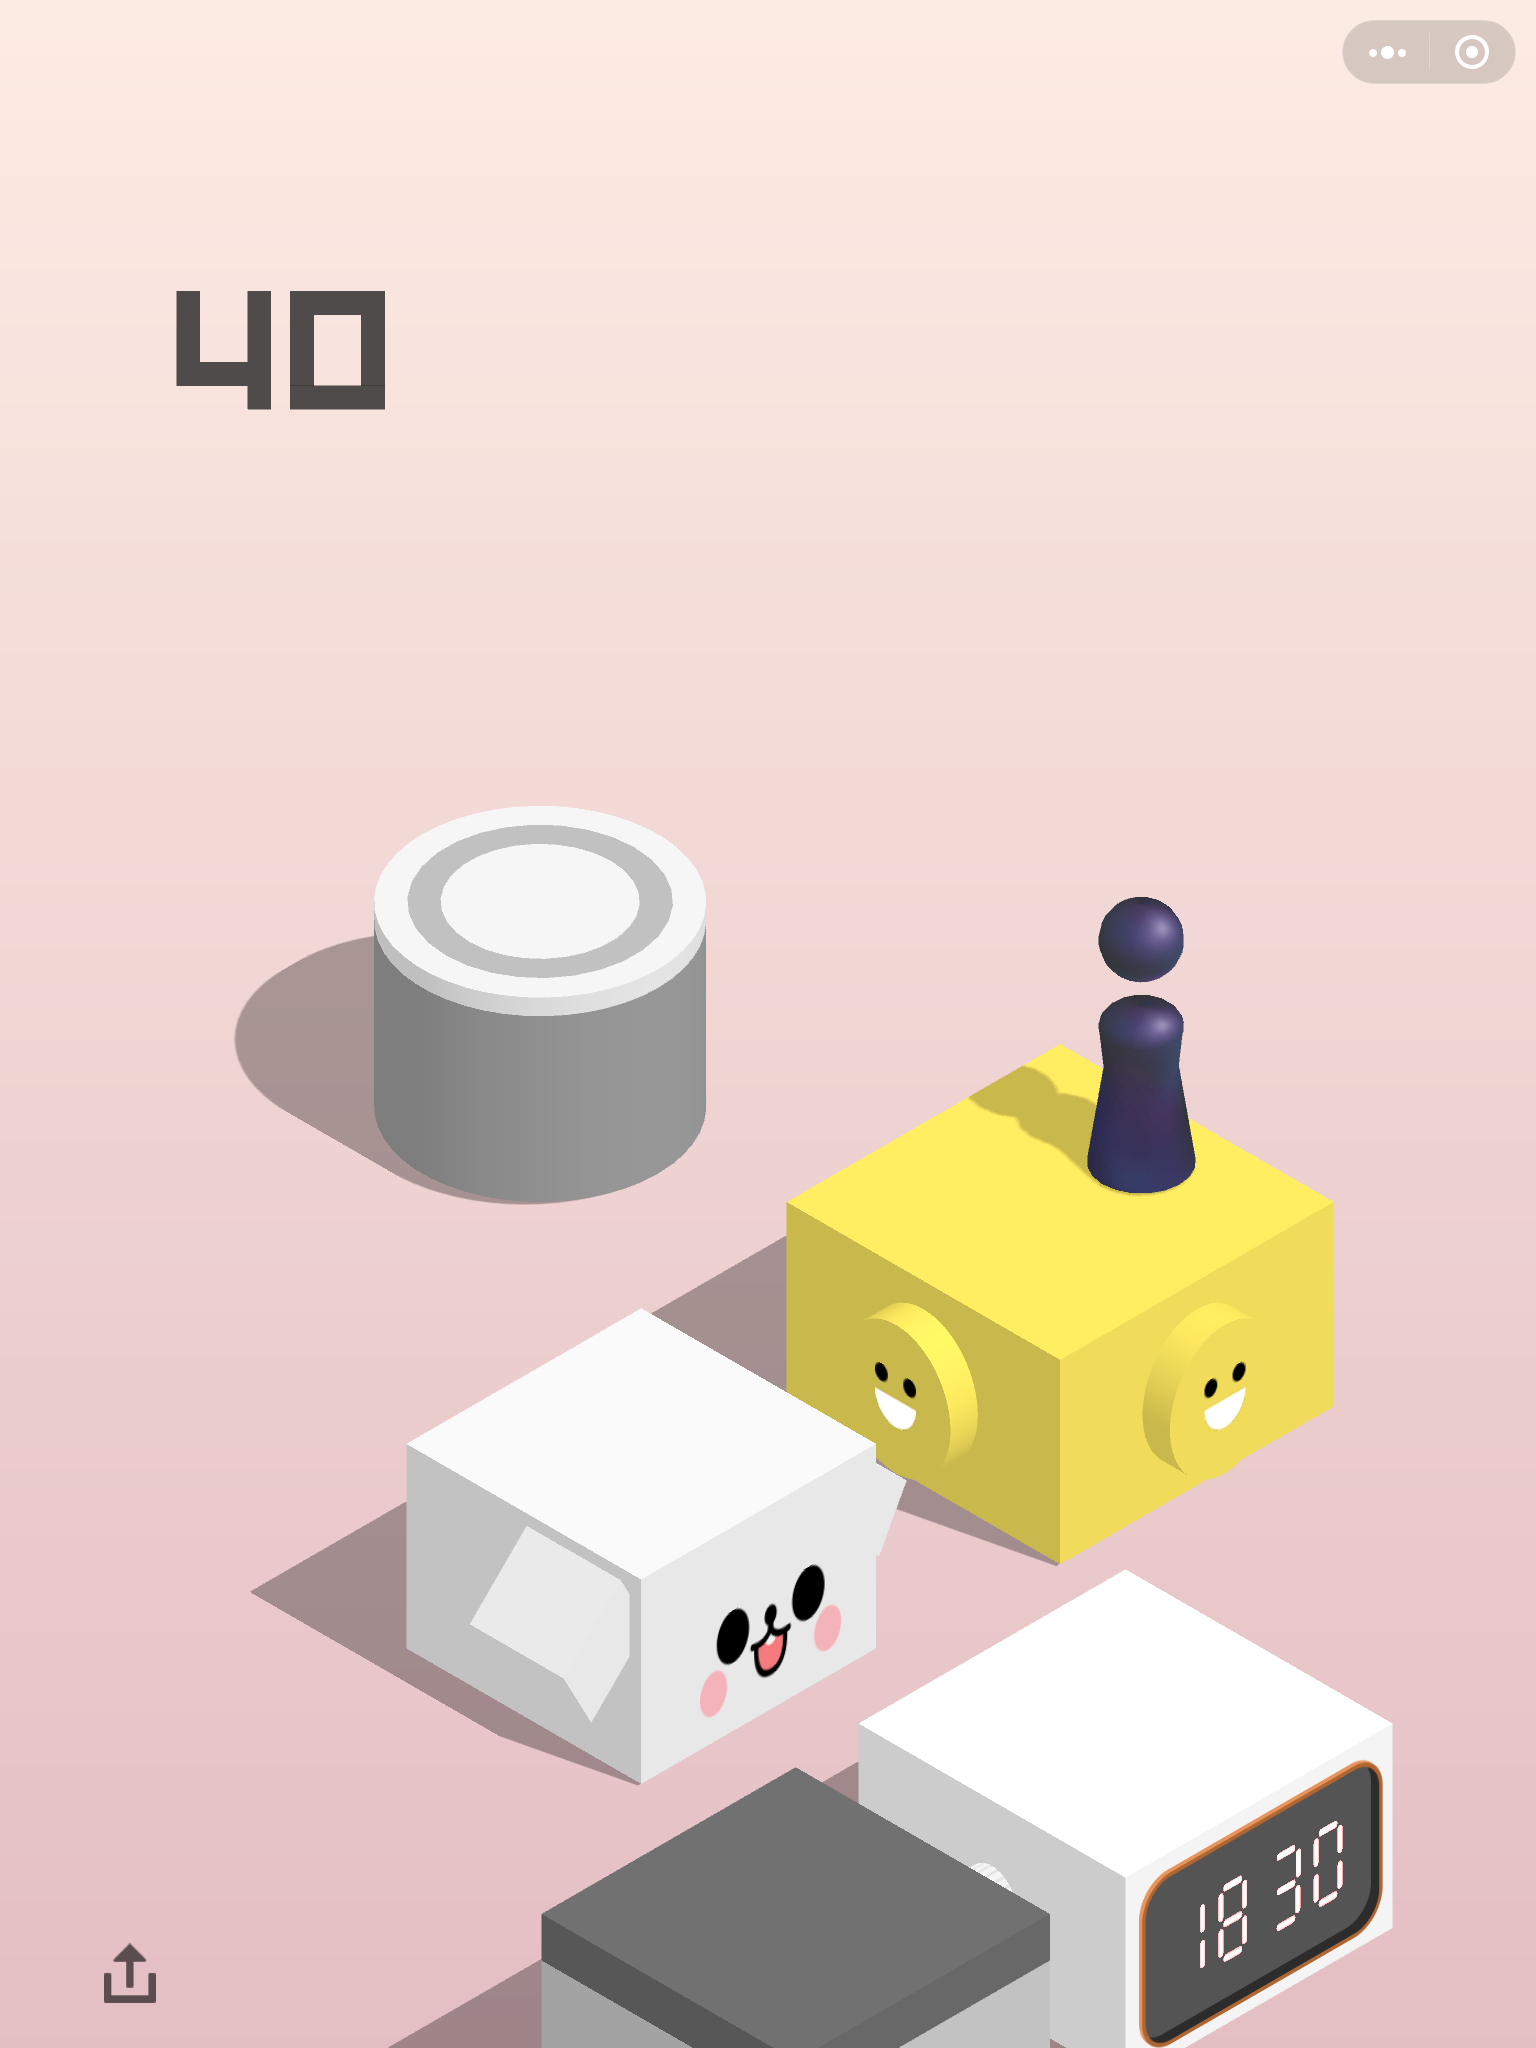c: (369, 797, 715, 1211)
f: (779, 1039, 1342, 1571), (854, 1566, 1402, 2048), (399, 1303, 910, 1788), (534, 1764, 1055, 2048)
r: (1083, 892, 1200, 1195)
